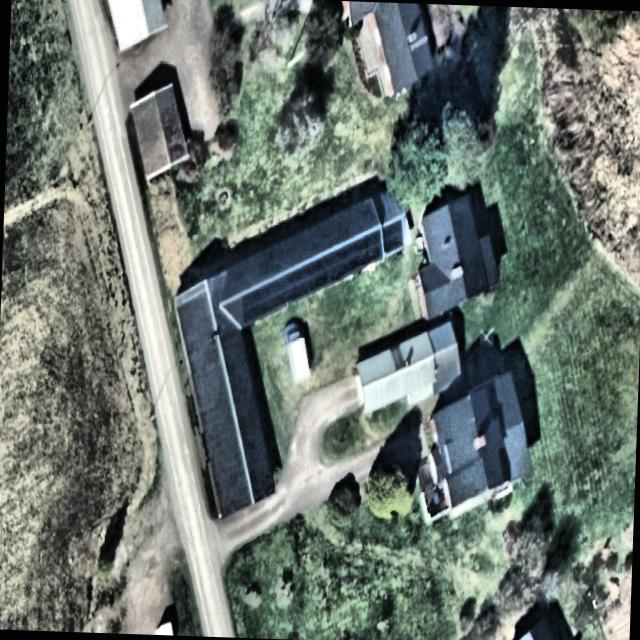roof_pv: (327, 216, 404, 280), (236, 269, 285, 334), (279, 252, 330, 311)
